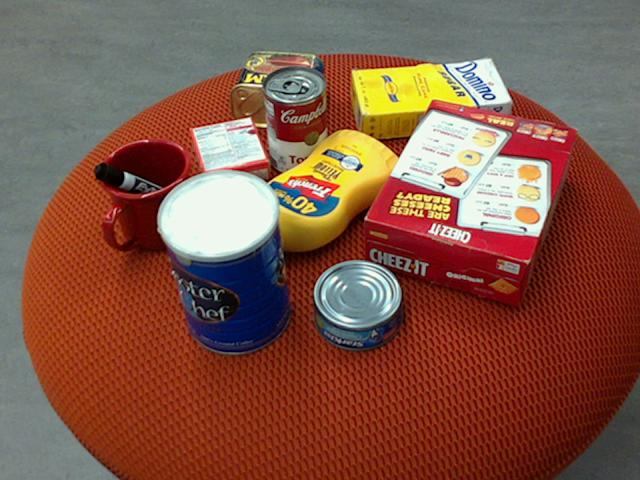cracker_box: (364, 98, 579, 304)
gelatin_box: (189, 115, 269, 193)
large_marker: (92, 162, 192, 215)
master_chef_can: (152, 170, 291, 356)
mug: (96, 138, 197, 250)
mustard_bottle: (240, 129, 403, 259)
potted_meat_can: (230, 51, 325, 129)
sugar_box: (350, 57, 513, 140)
tomato_soup_can: (262, 64, 328, 175)
tuna_fish_can: (313, 260, 404, 352)
